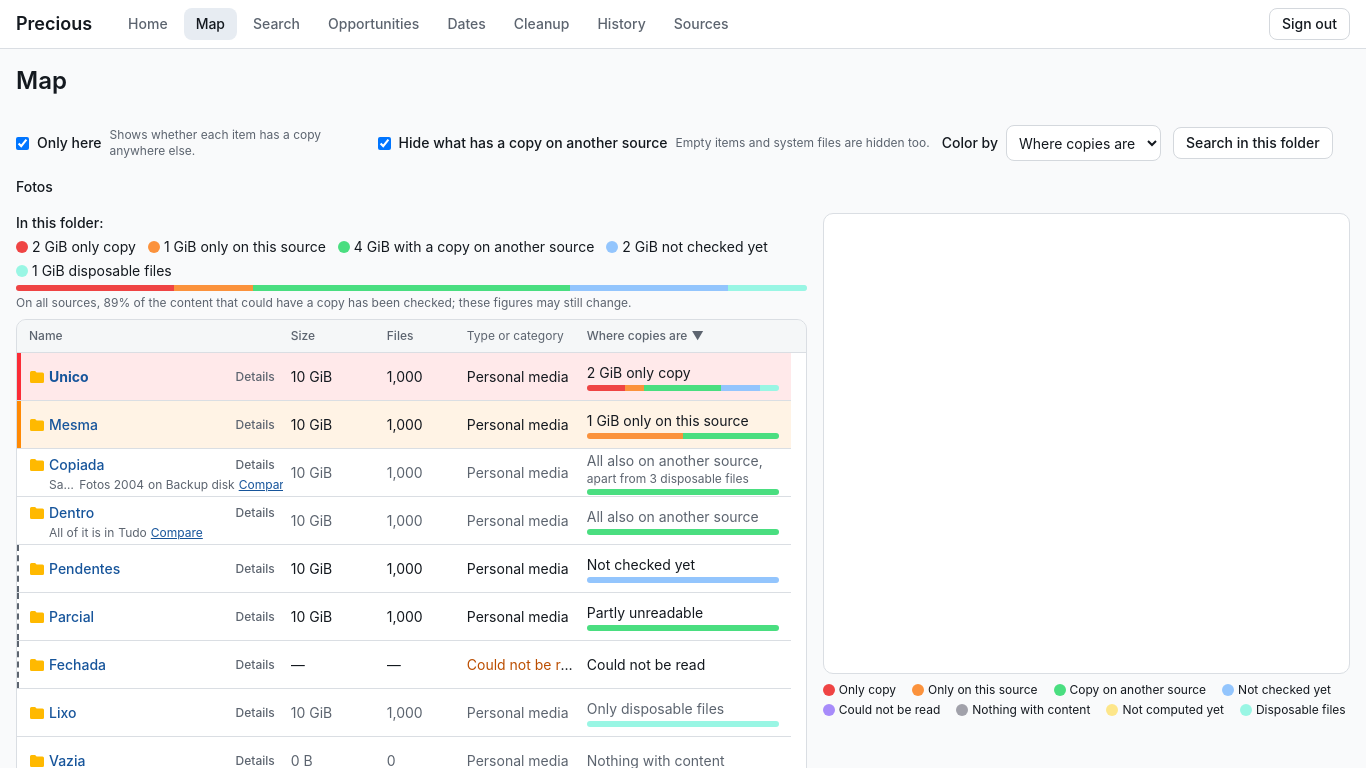
Test: Map Only here address › turns off taking away hide, the only-here sort, and the places color
Click the switch labelled "Only here" at (22, 143), box [16,136,29,150]
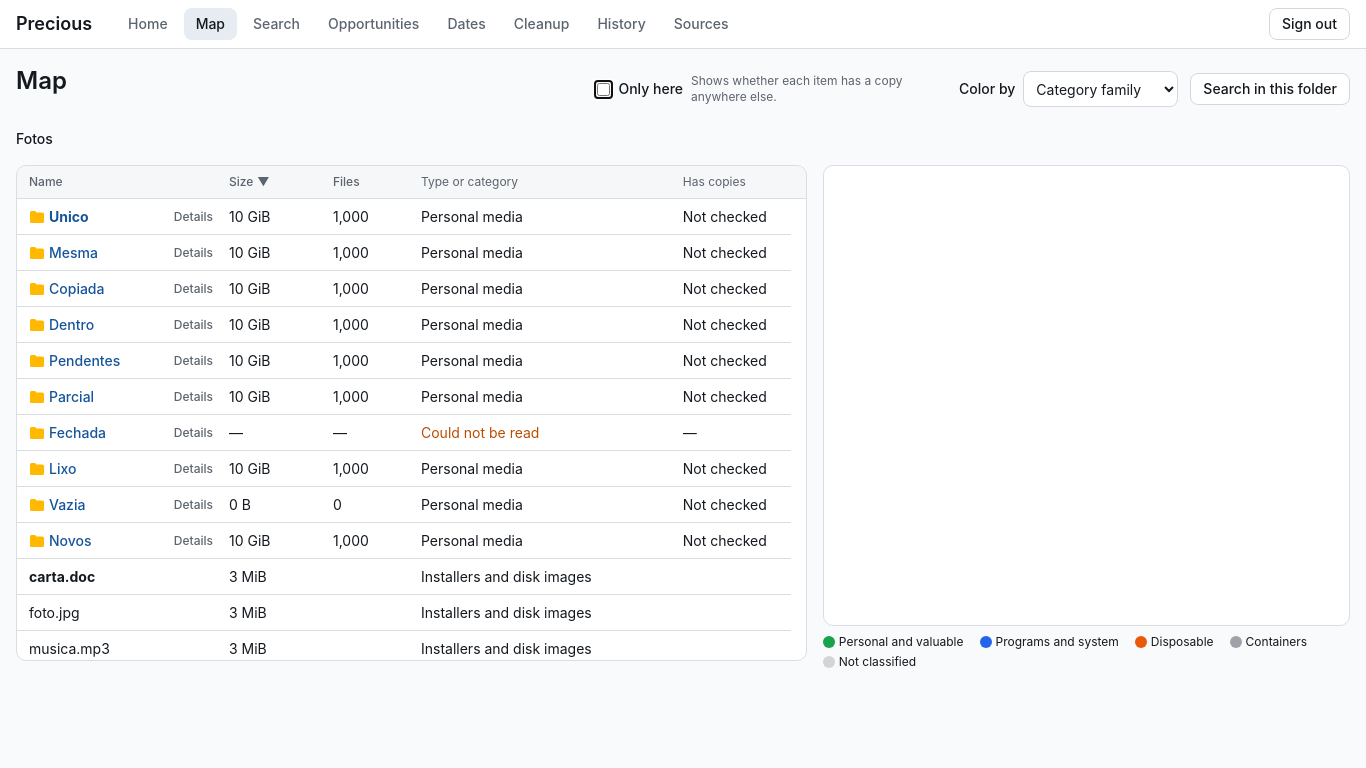
Expected: the column heading "Has copies" is shown, [683,174,746,189]
